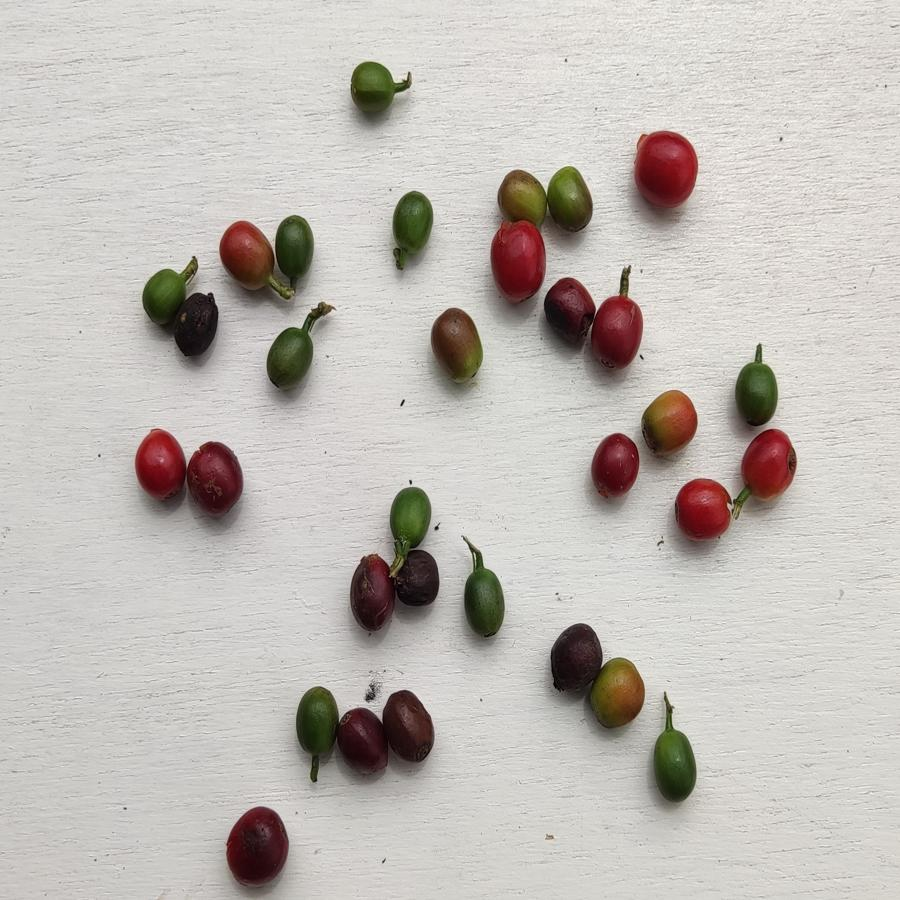Inmaduro: (650, 725, 699, 804), (264, 326, 316, 394), (293, 680, 337, 760), (391, 187, 432, 271), (386, 478, 434, 549), (348, 55, 402, 118), (463, 565, 505, 642), (735, 358, 779, 427), (275, 212, 315, 280), (143, 267, 179, 325)
Maduro: (632, 129, 700, 212), (488, 221, 547, 308), (218, 216, 276, 294), (592, 292, 647, 374), (741, 428, 801, 502), (670, 475, 734, 543), (134, 425, 188, 502), (591, 432, 642, 502)
Pinton: (429, 302, 485, 388), (547, 159, 601, 239), (641, 388, 701, 460), (592, 655, 646, 735), (495, 164, 552, 222)
Sobremaduro: (221, 804, 291, 888), (186, 438, 248, 517), (383, 688, 438, 766), (548, 618, 601, 694), (337, 703, 388, 780), (544, 275, 595, 352), (351, 554, 396, 635), (175, 290, 224, 363), (390, 551, 443, 605)
